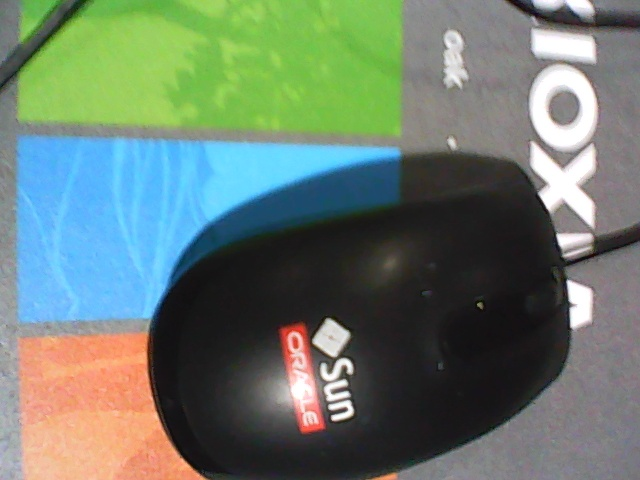mouse: (149, 182, 571, 480)
